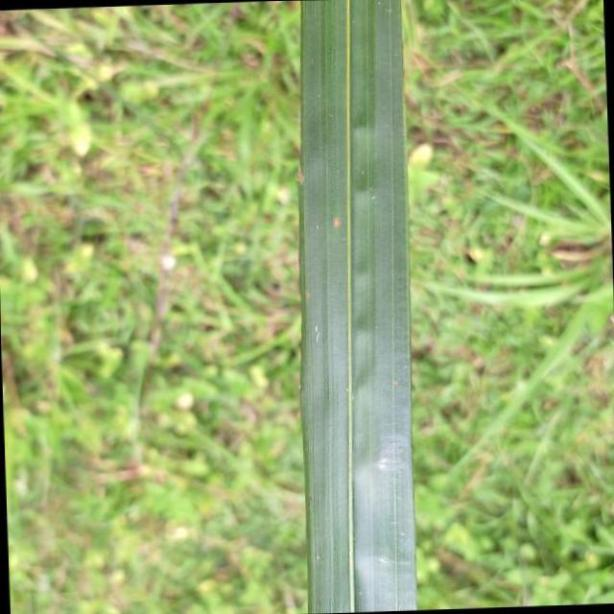Boron: (299, 3, 419, 614)
